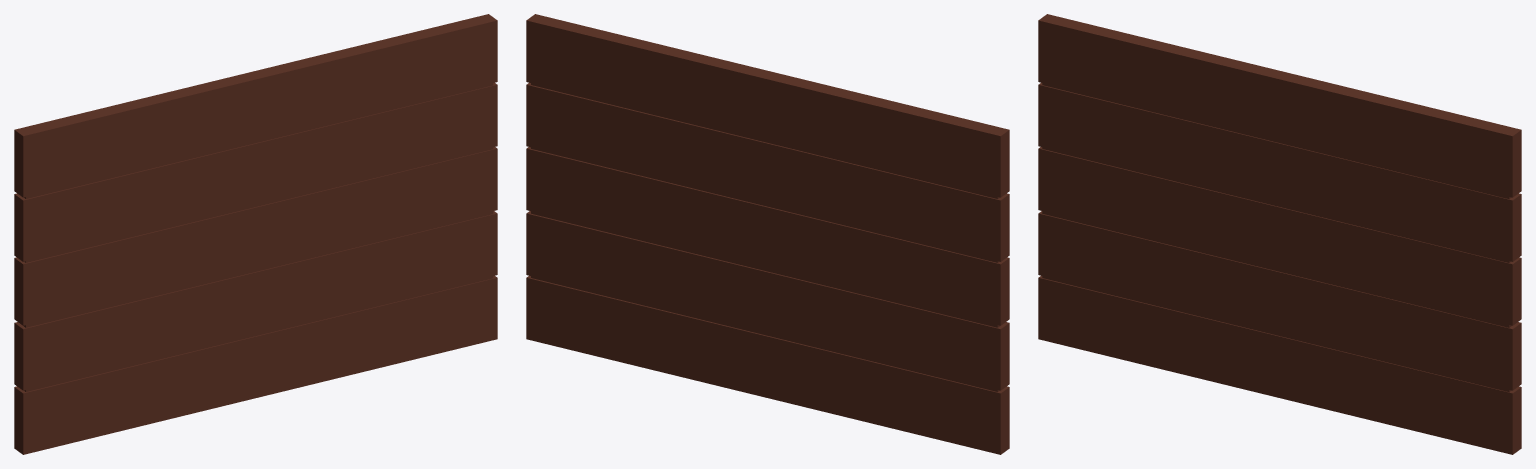
File: TutorialBoard.glb
3 views of the same model, side by side, from view 1: azimuth 30°, elevation 25°; view 2: azimuth 150°, elevation 25°; view 3: azimuth 330°, elevation 25° (orthographic).
Parts seen in each view (by area): view 1: Cube.004, Cube.001, Cube, Cube.003, Cube.002, Cube.005; view 2: Cube.004, Cube.001, Cube, Cube.003, Cube.002, Cube.005; view 3: Cube.004, Cube.001, Cube, Cube.003, Cube.002, Cube.005.
Part boxes in pixels (x1,y1,x2,y2): Cube.004: (14, 14, 497, 197); Cube.001: (14, 211, 497, 390); Cube: (14, 275, 497, 454); Cube.003: (14, 82, 497, 261); Cube.002: (14, 147, 497, 325); Cube.005: (23, 83, 493, 391); Cube.004: (526, 14, 1009, 197); Cube.001: (526, 211, 1009, 390); Cube: (526, 275, 1009, 454); Cube.003: (526, 82, 1009, 261); Cube.002: (526, 147, 1009, 325); Cube.005: (531, 83, 1000, 391); Cube.004: (1038, 14, 1521, 197); Cube.001: (1038, 211, 1521, 390); Cube: (1038, 275, 1521, 454); Cube.003: (1038, 82, 1521, 261); Cube.002: (1038, 147, 1521, 325); Cube.005: (1042, 83, 1511, 391).
Size of the model in its own units: 3.5 by 2.25 by 0.1132.
